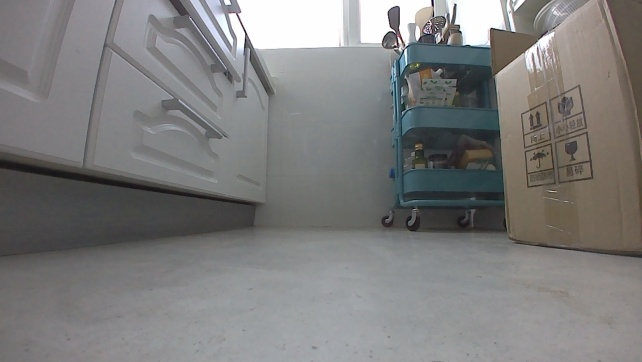cupboard: (0, 0, 278, 257)
